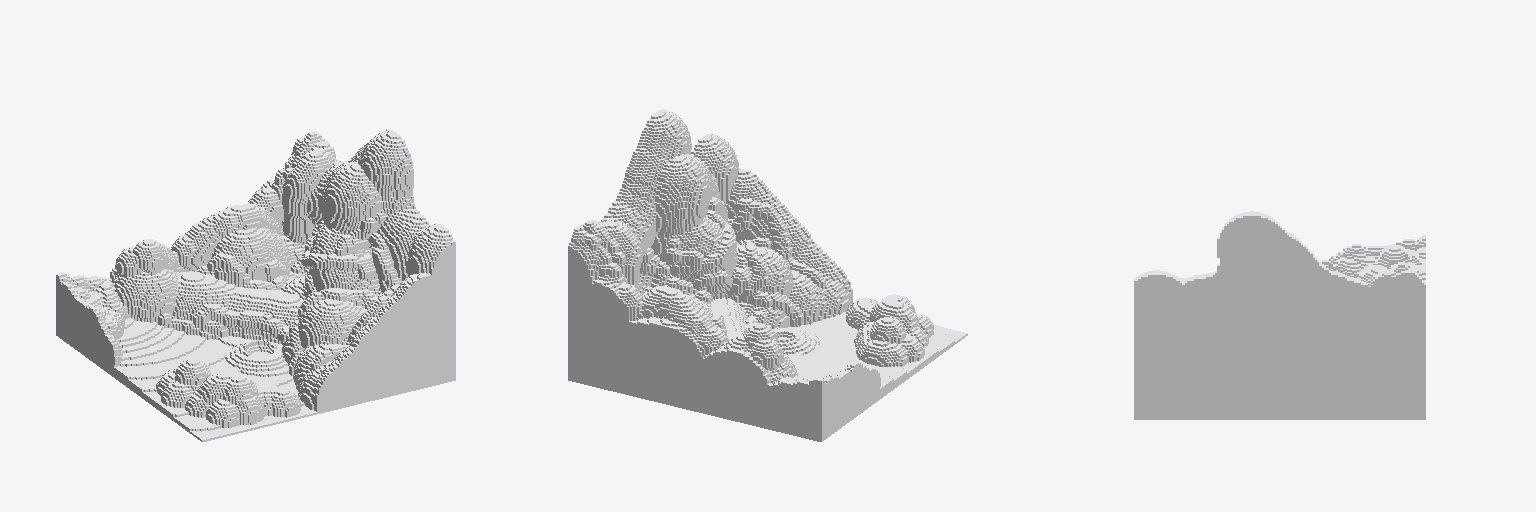
File: Ext_LunarBorder12.obj
The picture shows the model from 3 angles: view 1: azimuth 30°, elevation 25°; view 2: azimuth 150°, elevation 25°; view 3: azimuth 270°, elevation 25°; orthographic projection.
Bounding box in the file's own units: 126 × 97 × 126.